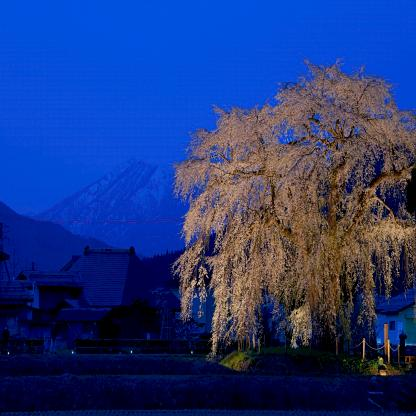ShidareZakura: (168, 55, 416, 363)
